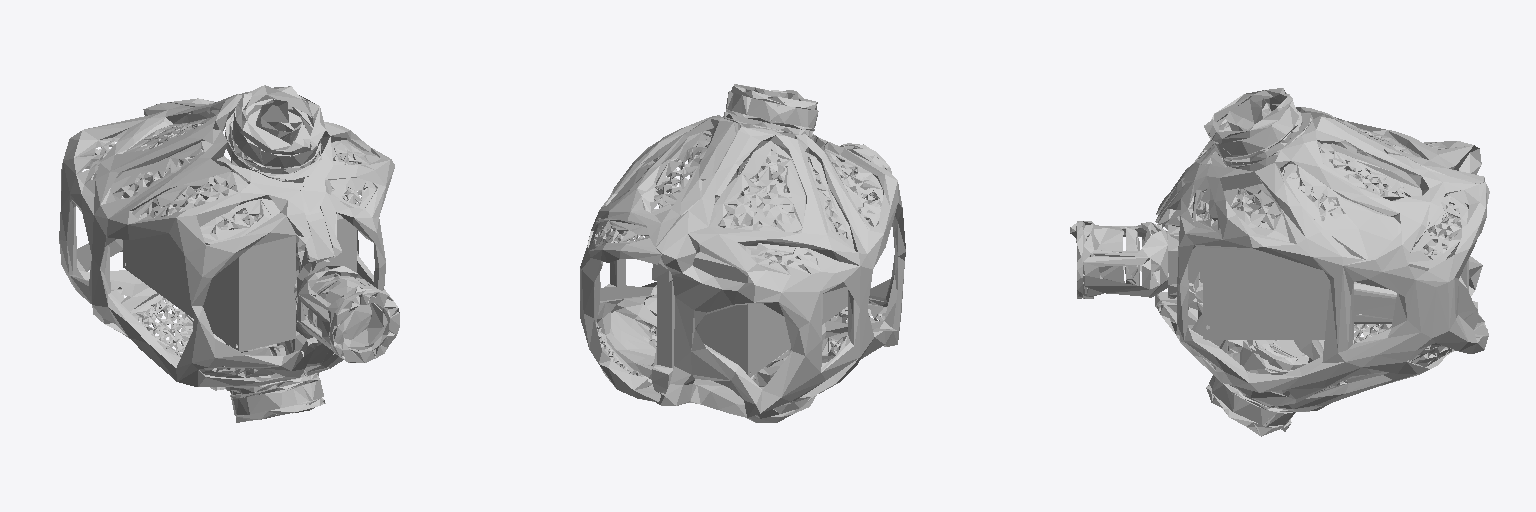
The model's file is torso_link.obj.
3 renders of one model, left to right at view 1: azimuth 30°, elevation 25°; view 2: azimuth 150°, elevation 25°; view 3: azimuth 270°, elevation 25°, orthographic.
Visible parts, largest first — view 1: torso_link; view 2: torso_link; view 3: torso_link.
Boxes of the visible parts, x1,y1,x2,y2 form: torso_link: [59, 85, 399, 422]; torso_link: [580, 84, 905, 422]; torso_link: [1070, 88, 1489, 436].
Size of the model in its own units: 0.2261 by 0.2786 by 0.3211.